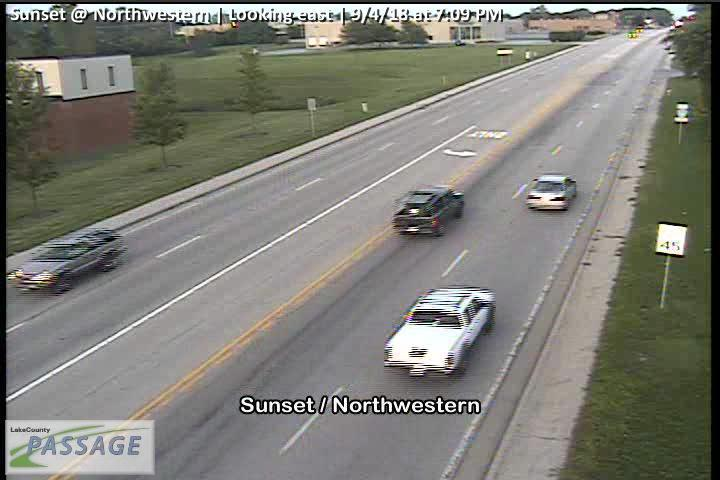SUV: (11, 227, 127, 291)
Sedan: (525, 175, 576, 211)
Truck: (383, 287, 496, 377), (391, 186, 464, 236)
